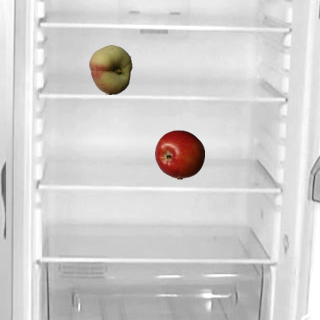Apple Braeburn: (154, 129, 204, 179)
Peach Flat: (85, 44, 135, 94)
